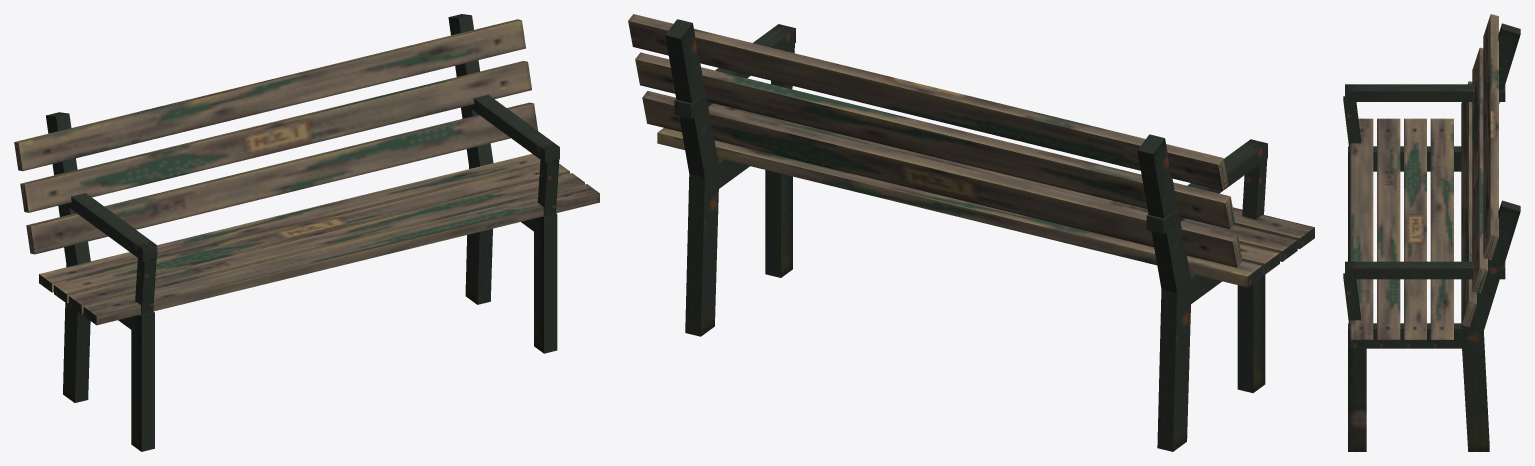
File: bench_park.obj
3 renders of one model, left to right at view 1: azimuth 30°, elevation 25°; view 2: azimuth 150°, elevation 25°; view 3: azimuth 270°, elevation 25°, orthographic. The views are drawn at different scales.
Visible parts, largest first — view 1: bench_park; view 2: bench_park; view 3: bench_park.
Boxes of the visible parts, <box> form: bench_park: <box>14,14,599,451</box>; bench_park: <box>628,14,1314,451</box>; bench_park: <box>1343,14,1520,451</box>.
Size of the model in its own units: 1.7 by 0.88 by 0.575.
1 material, 1 textured.
